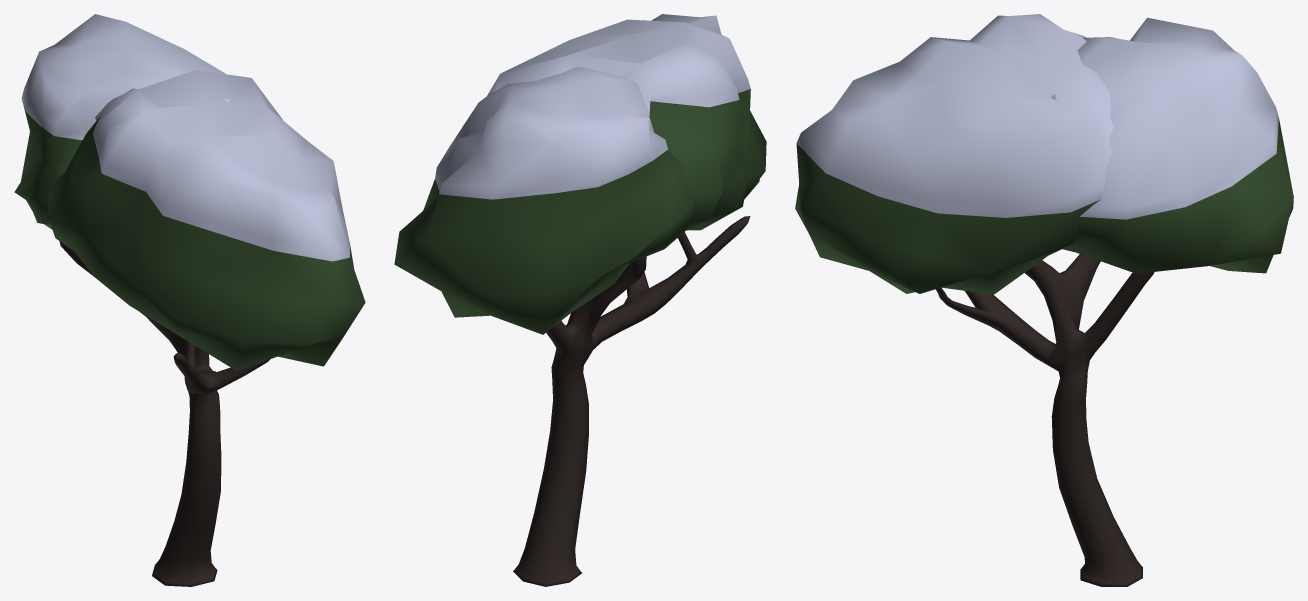
Rendered from tree.glb.
The picture shows the model from 3 angles, left to right: view 1: azimuth 30°, elevation 25°; view 2: azimuth 150°, elevation 25°; view 3: azimuth 270°, elevation 25°; orthographic projection. The views are drawn at different scales.
Visible parts, largest first — view 1: CommonTree_Snow_5-col; view 2: CommonTree_Snow_5-col; view 3: CommonTree_Snow_5-col.
Boxes of the visible parts, box(x1,y1,x2,y2) form: CommonTree_Snow_5-col: box(14, 14, 365, 586); CommonTree_Snow_5-col: box(394, 14, 766, 586); CommonTree_Snow_5-col: box(795, 14, 1293, 586).
Bounding box in the file's own units: 1.29 × 2.57 × 2.25.
